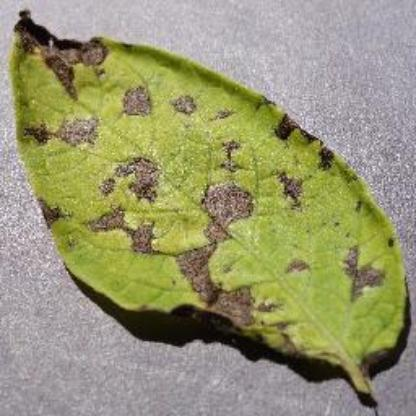Early-Blight: (10, 4, 414, 408)
